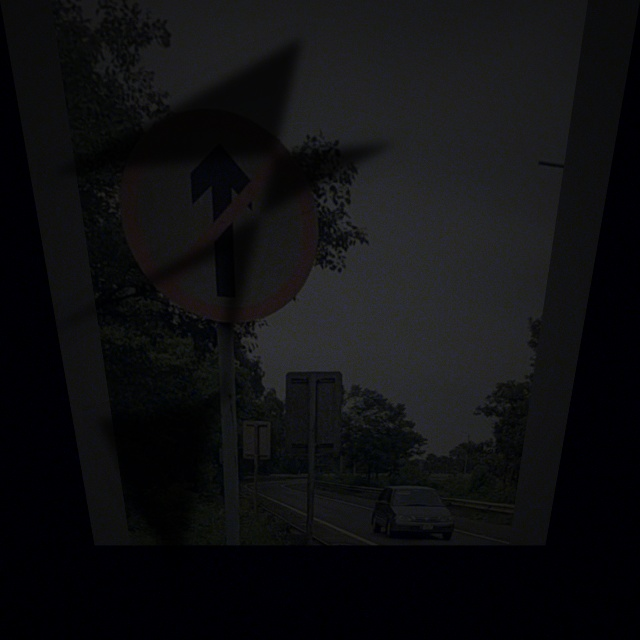No_Entry: (113, 111, 319, 323)
